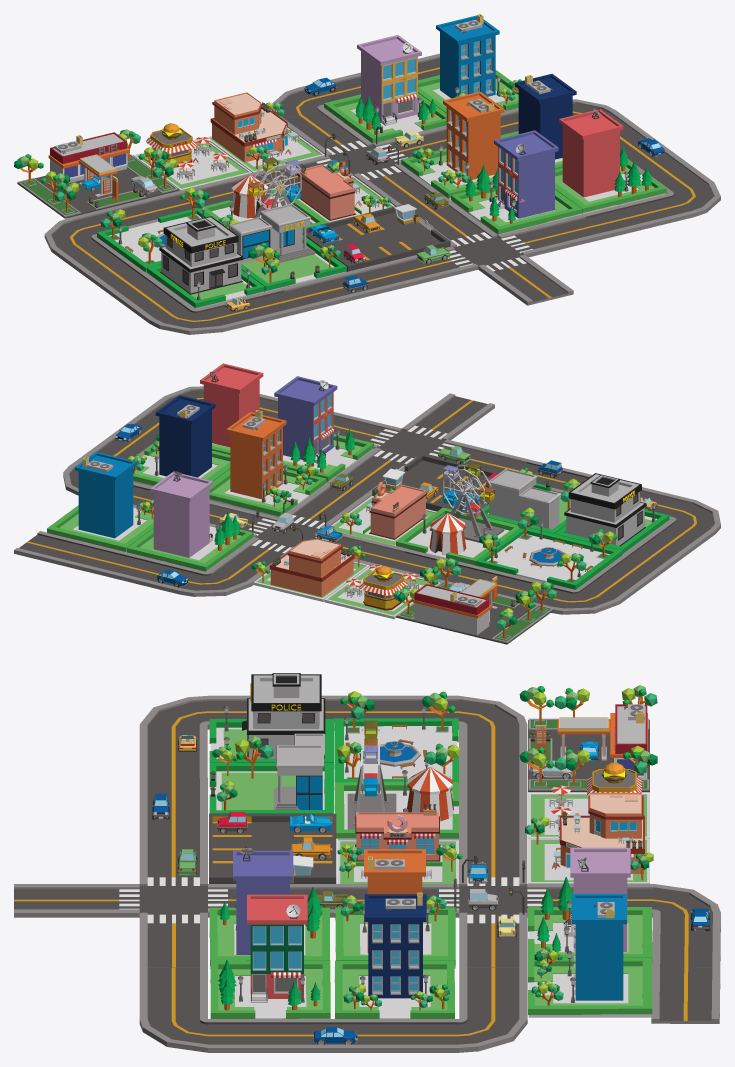
The model's file is CityPackSyno.fbx.
3 views of the same model, one above another, from view 1: azimuth 30°, elevation 25°; view 2: azimuth 150°, elevation 25°; view 3: azimuth 270°, elevation 25° (orthographic). The views are drawn at different scales.
Parts seen in each view (by area): view 1: Way(3).001, Fuel Station, Building(6), Building(3), Building(5), Way(3), Police, Bank, Building(2), Way(5).001, Building(1), Way(5).003 (+12 smaller); view 2: Way(3).001, Fuel Station, Way(3), Building(2), Building(3), Building(1), Park, Building(6), Theme Park, Building(4), Police, Way(5).002 (+13 smaller); view 3: Way(3).001, Building(1), Building(4), Building(5), Way(3), Fuel Station, Way(5).003, Way(5), Bank, Park, Way(5).002, Restourant (+13 smaller).
Boxes of the visible parts, <box> form: Way(3).001: <box>366,199,609,305</box>; Fuel Station: <box>14,129,178,218</box>; Building(6): <box>451,130,582,234</box>; Building(3): <box>324,35,446,143</box>; Building(5): <box>555,108,666,214</box>; Way(3): <box>242,107,447,208</box>; Police: <box>147,216,264,308</box>; Bank: <box>228,203,346,291</box>; Building(2): <box>401,91,504,200</box>; Way(5).001: <box>100,273,307,334</box>; Building(1): <box>418,14,521,112</box>; Way(5).003: <box>583,146,720,237</box>; Way(3).001: <box>328,393,529,493</box>; Fuel Station: <box>393,558,556,644</box>; Way(3): <box>206,483,407,586</box>; Building(2): <box>209,410,326,517</box>; Building(3): <box>127,470,253,571</box>; Building(1): <box>47,452,153,551</box>; Park: <box>475,507,622,589</box>; Building(6): <box>274,376,373,483</box>; Theme Park: <box>396,463,519,565</box>; Building(4): <box>127,395,230,486</box>; Police: <box>555,473,669,553</box>; Way(5).002: <box>480,554,667,614</box>; Way(3).001: <box>14,831,333,967</box>; Building(1): <box>528,894,652,1017</box>; Building(4): <box>334,892,454,1018</box>; Building(5): <box>210,894,330,1018</box>; Way(3): <box>333,831,652,967</box>; Fuel Station: <box>519,685,657,792</box>; Way(5).003: <box>139,966,333,1052</box>; Way(5): <box>333,966,527,1052</box>; Bank: <box>209,733,333,813</box>; Park: <box>334,691,460,789</box>; Way(5).002: <box>333,695,527,779</box>; Restourant: <box>525,793,653,883</box>.
Size of the model in its own units: 6232 by 781 by 5289.
2 materials, 2 textured.
